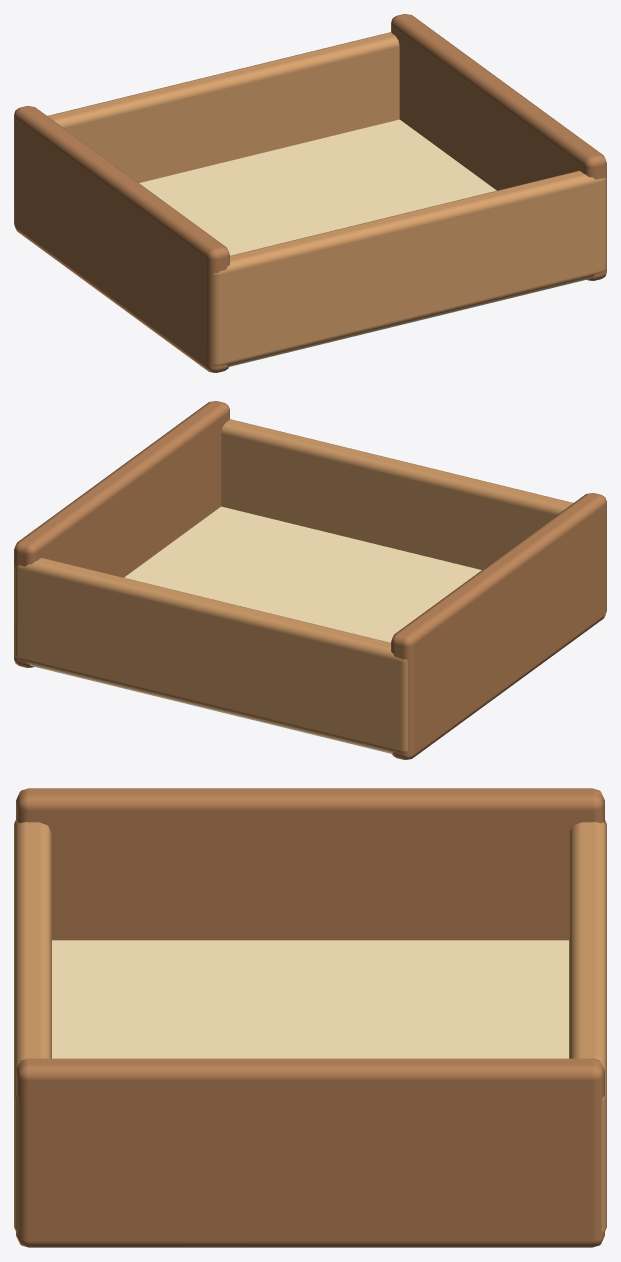
Rendered from crate.glb.
3 renders of one model, top to bottom at view 1: azimuth 30°, elevation 25°; view 2: azimuth 150°, elevation 25°; view 3: azimuth 270°, elevation 25°, orthographic. The views are drawn at different scales.
Visible parts, largest first — view 1: crate; view 2: crate; view 3: crate.
Boxes of the visible parts, x1,y1,x2,y2 form: crate: [14, 14, 606, 372]; crate: [14, 401, 606, 759]; crate: [14, 788, 606, 1247].
Bounding box in the file's own units: 0.805 × 0.24 × 0.705.
